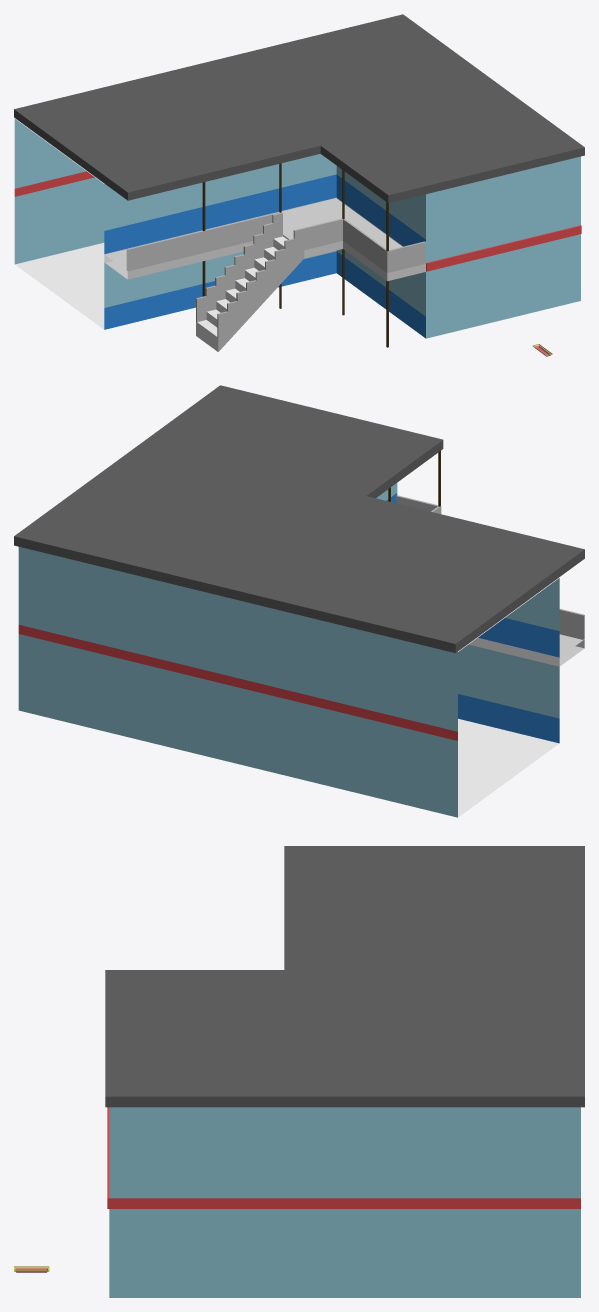
File: MOtel.fbx
The picture shows the model from 3 angles, top to bottom: view 1: azimuth 30°, elevation 25°; view 2: azimuth 150°, elevation 25°; view 3: azimuth 270°, elevation 25°; orthographic projection. The views are drawn at different scales.
Visible parts, largest first — view 1: Roof, Motel_buildig, Motel_Stairs, barrier, Motel Walk, Poles; view 2: Motel_buildig, Roof, barrier; view 3: Roof, Motel_buildig.
Boxes of the visible parts, <box> form: Roof: <box>14,14,584,203</box>; Motel_buildig: <box>14,118,581,338</box>; Motel_Stairs: <box>196,212,304,351</box>; barrier: <box>126,212,425,272</box>; Motel Walk: <box>105,198,425,281</box>; Poles: <box>202,163,388,347</box>; Motel_buildig: <box>18,483,559,817</box>; Roof: <box>14,385,584,652</box>; barrier: <box>396,495,584,639</box>; Roof: <box>105,846,584,1107</box>; Motel_buildig: <box>107,1107,580,1297</box>.
Bounding box in the file's own units: 1510 × 618 × 1452.
